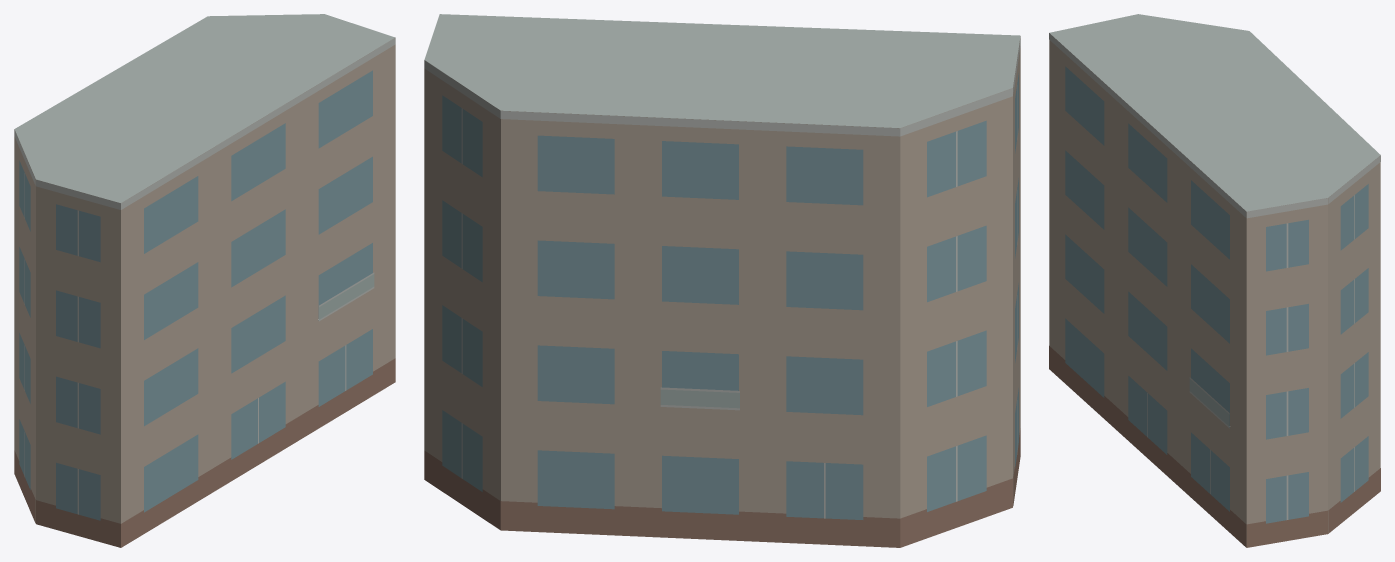
The model's file is survey-upis-32809485.glb.
3 views of the same model, side by side, from view 1: azimuth 30°, elevation 25°; view 2: azimuth 150°, elevation 25°; view 3: azimuth 270°, elevation 25° (orthographic). The views are drawn at different scales.
Parts seen in each view (by area): view 1: survey-upis-32809485.tmp; view 2: survey-upis-32809485.tmp; view 3: survey-upis-32809485.tmp.
Part boxes in pixels (x1,y1,x2,y2): survey-upis-32809485.tmp: (14,14,395,547); survey-upis-32809485.tmp: (424,14,1020,547); survey-upis-32809485.tmp: (1049,14,1380,547).
Bounding box in the file's own units: 15.39 × 12.2 × 10.92.
